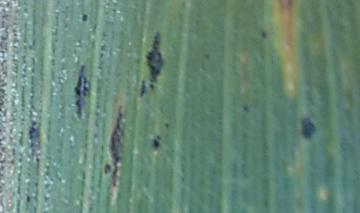tarspot: (106, 103, 126, 188), (144, 29, 165, 90), (71, 63, 92, 119), (297, 115, 316, 141), (28, 118, 40, 141), (138, 79, 146, 99), (152, 134, 162, 149), (79, 12, 89, 24), (239, 103, 249, 112), (103, 163, 111, 174), (258, 30, 267, 39), (202, 52, 211, 61), (33, 155, 41, 164), (162, 121, 170, 129), (25, 195, 32, 203)
